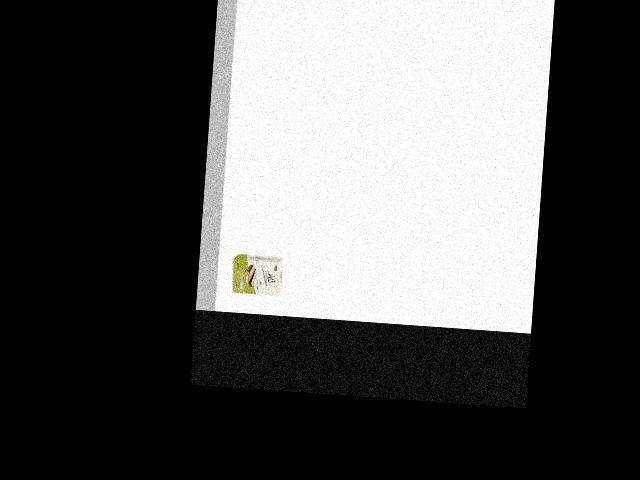chocolate: (228, 250, 285, 300)
